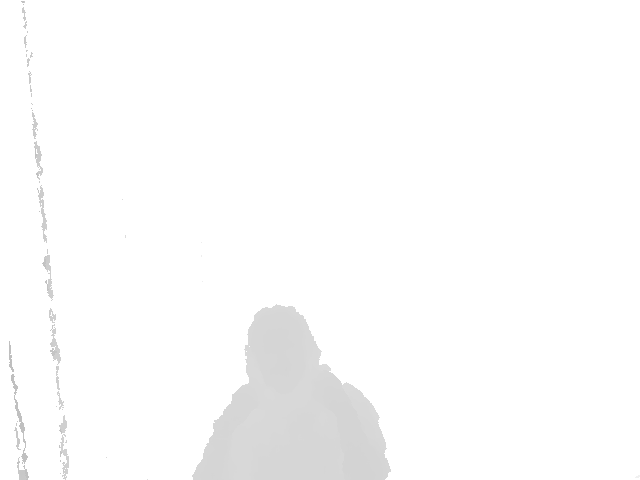head: (245, 304, 321, 378)
person: (191, 305, 392, 480)
